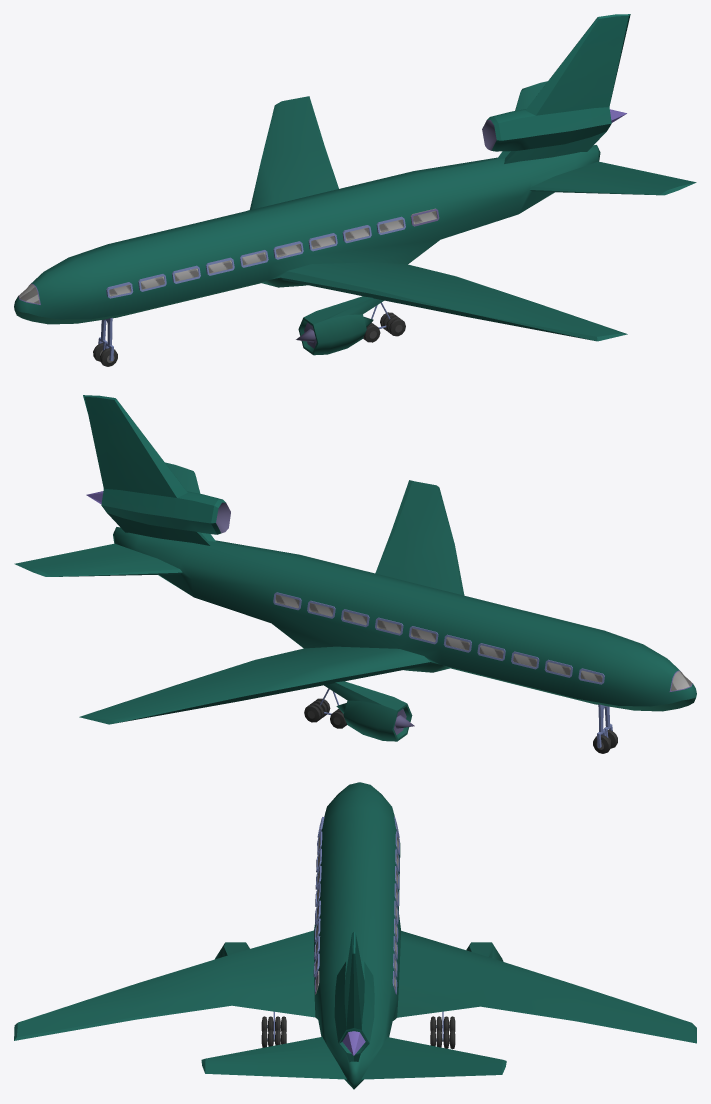
3 renders of one model, top to bottom at view 1: azimuth 30°, elevation 25°; view 2: azimuth 150°, elevation 25°; view 3: azimuth 270°, elevation 25°, orthographic. The views are drawn at different scales.
Visible parts, largest first — view 1: Plane_3_F; view 2: Plane_3_F; view 3: Plane_3_F.
Part boxes in pixels (x1,y1,x2,y2): Plane_3_F: (14,14,696,366); Plane_3_F: (14,395,696,753); Plane_3_F: (14,782,696,1089).
Size of the model in its own units: 27.12 by 9.69 by 24.81.
Materials: 3 (3 with a texture image).
